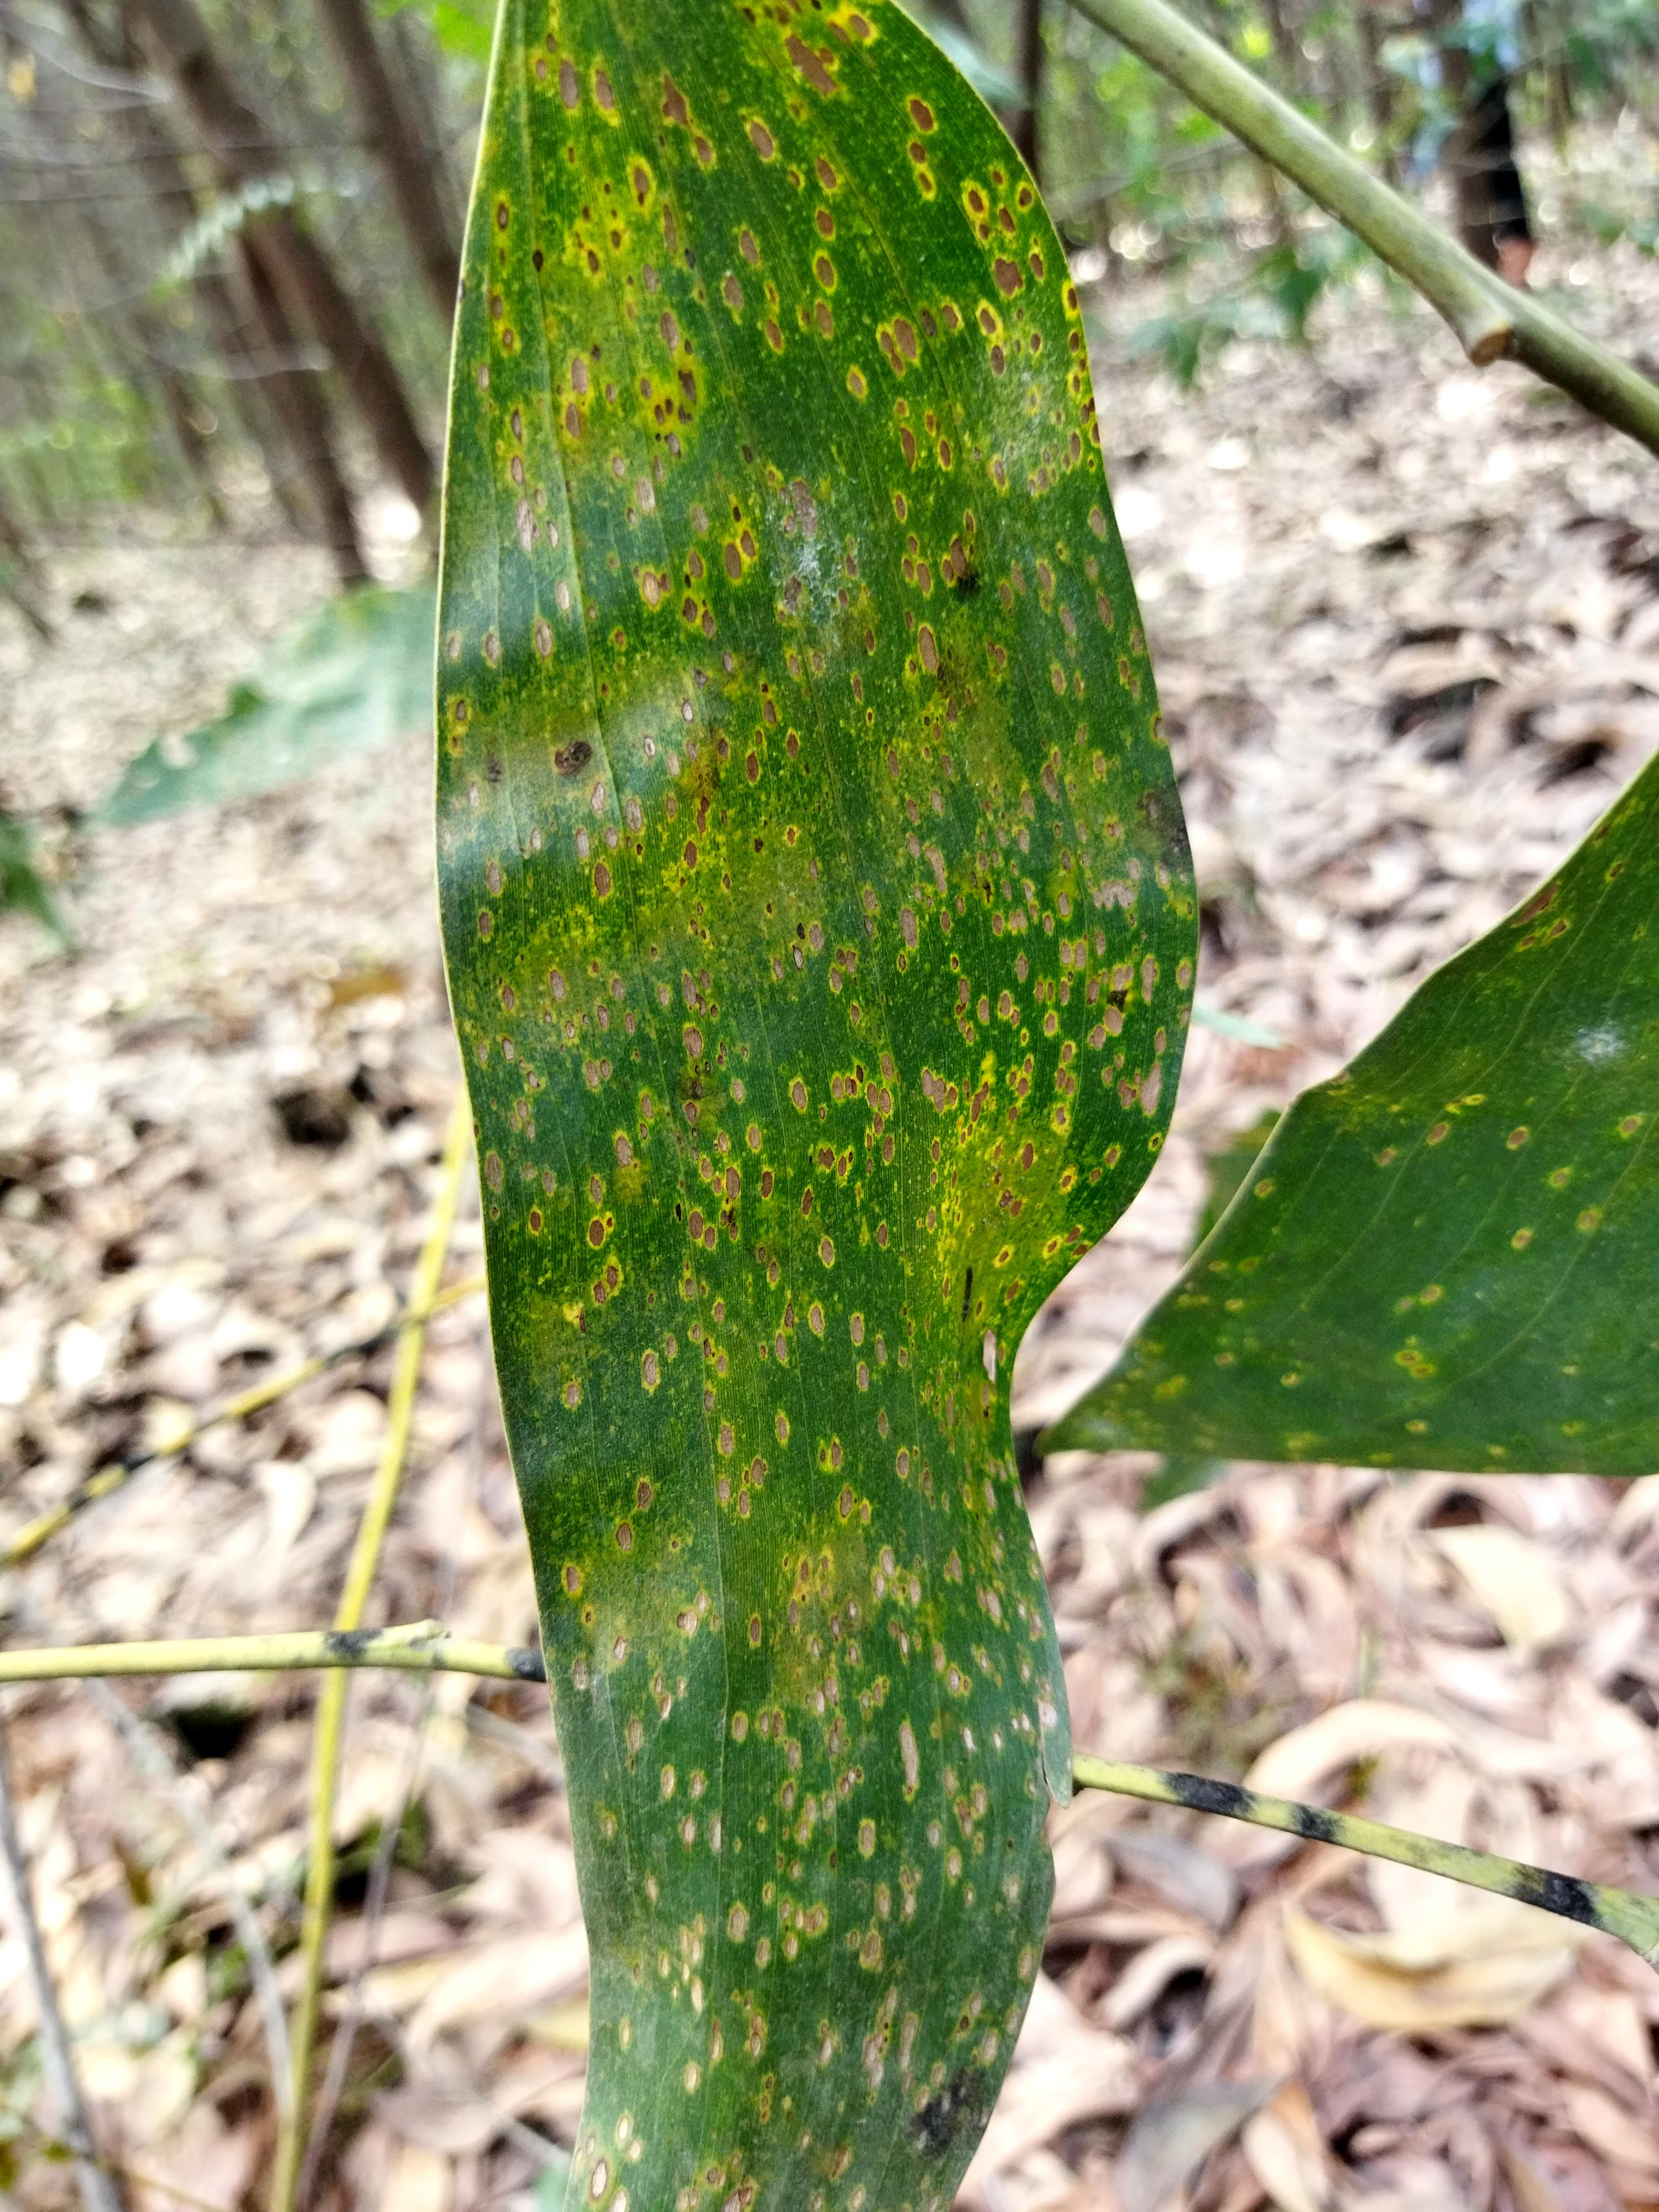Xanthomonas: (477, 89, 1138, 2212)
